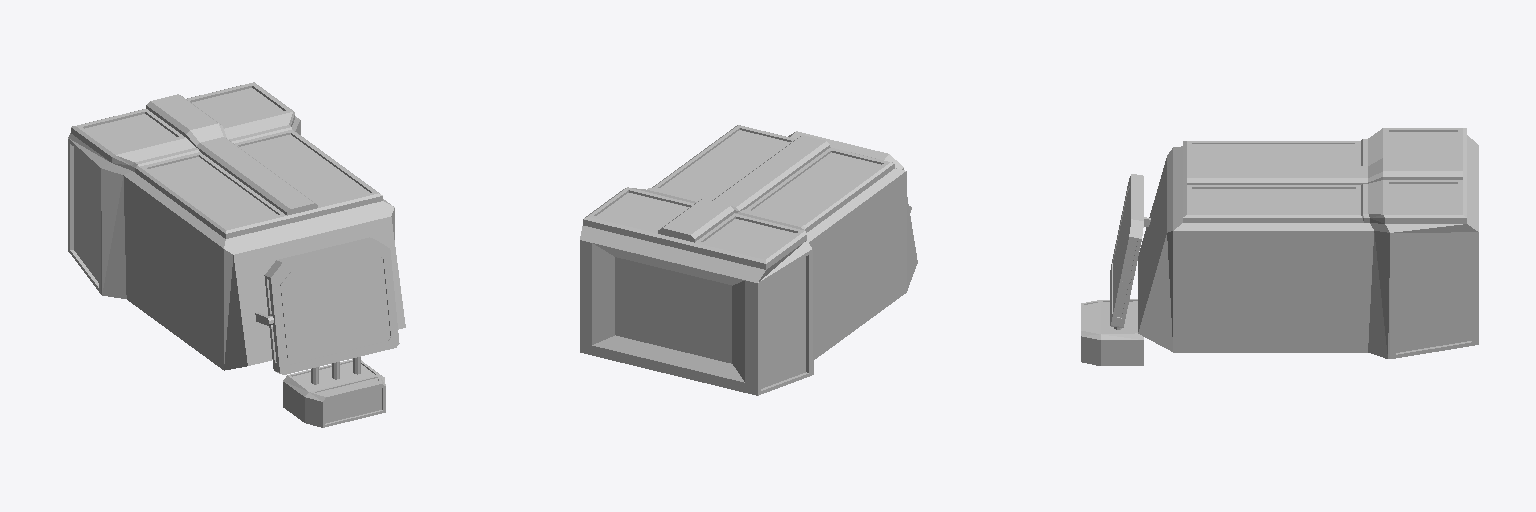
Rendered from multitool.obj.
3 renders of one model, left to right at view 1: azimuth 30°, elevation 25°; view 2: azimuth 150°, elevation 25°; view 3: azimuth 270°, elevation 25°, orthographic.
Parts seen in each view (by area): view 1: Cylinder.001; view 2: Cylinder.001; view 3: Cylinder.001.
Part boxes in pixels (left/top/right/bottom): Cylinder.001: left=68, top=82, right=405, bottom=427; Cylinder.001: left=580, top=125, right=917, bottom=395; Cylinder.001: left=1081, top=128, right=1478, bottom=365.
Size of the model in its own units: 0.4157 by 0.3641 by 0.717.